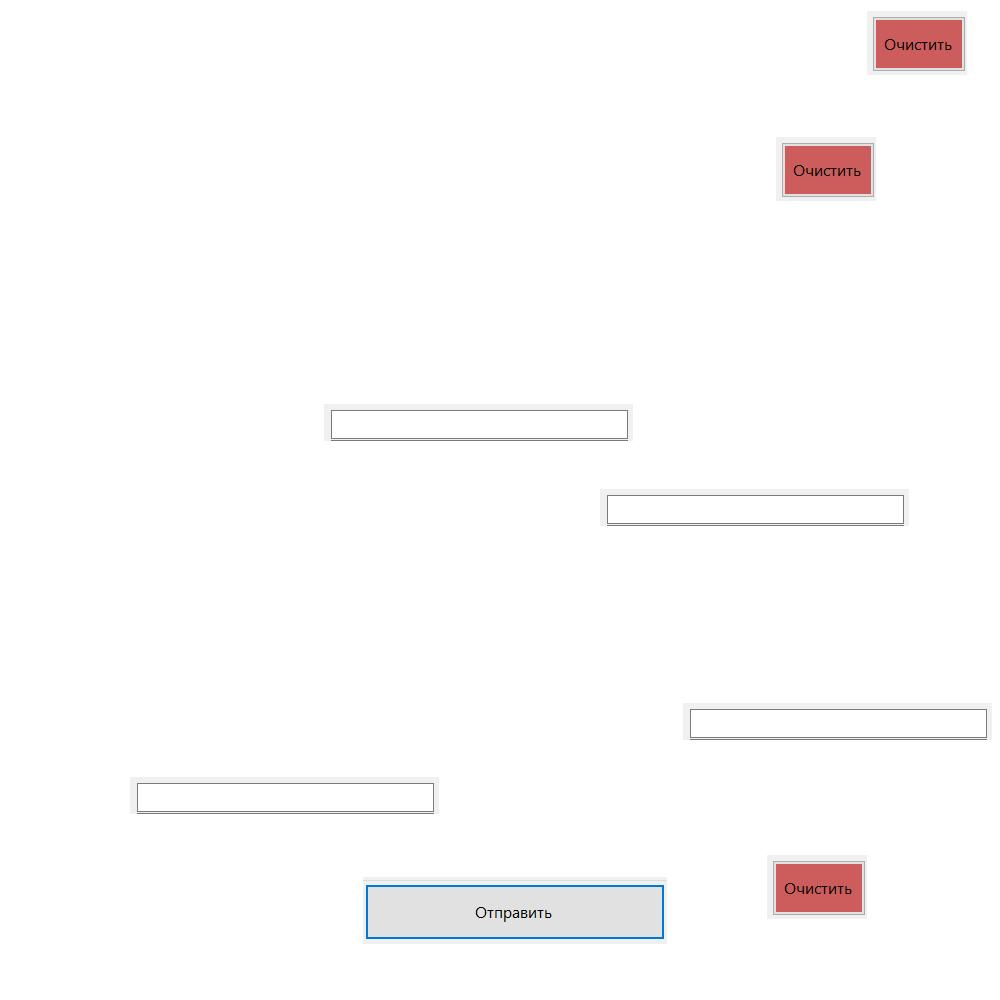Button: (363, 877, 667, 944), (767, 855, 867, 919), (867, 11, 967, 75), (776, 137, 876, 201)
EditText-: (683, 703, 992, 740), (324, 404, 633, 441), (600, 489, 909, 526), (130, 777, 439, 814)
